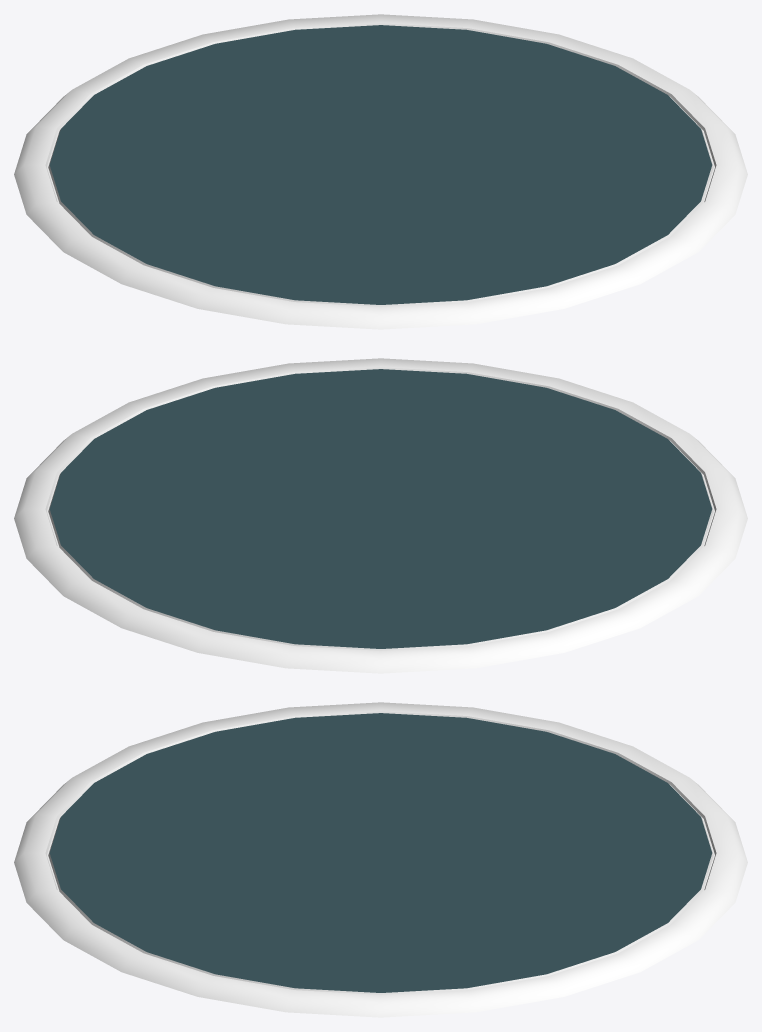
Rendered from arena_b.fbx.
3 views of the same model, one above another, from view 1: azimuth 30°, elevation 25°; view 2: azimuth 150°, elevation 25°; view 3: azimuth 270°, elevation 25° (orthographic).
Visible parts, largest first — view 1: floor_b, margins_b; view 2: floor_b, margins_b; view 3: floor_b, margins_b.
Part boxes in pixels (x1,y1,x2,y2): floor_b: [49, 25, 712, 304]; margins_b: [14, 14, 747, 329]; floor_b: [49, 369, 712, 648]; margins_b: [14, 358, 747, 673]; floor_b: [49, 713, 712, 992]; margins_b: [14, 702, 747, 1017].
Size of the model in its own units: 17.5 by 0.25 by 17.5.
